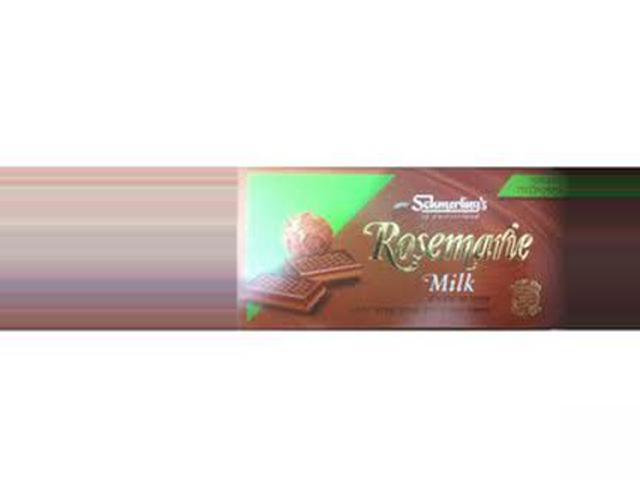chocolate: (240, 171, 571, 328)
